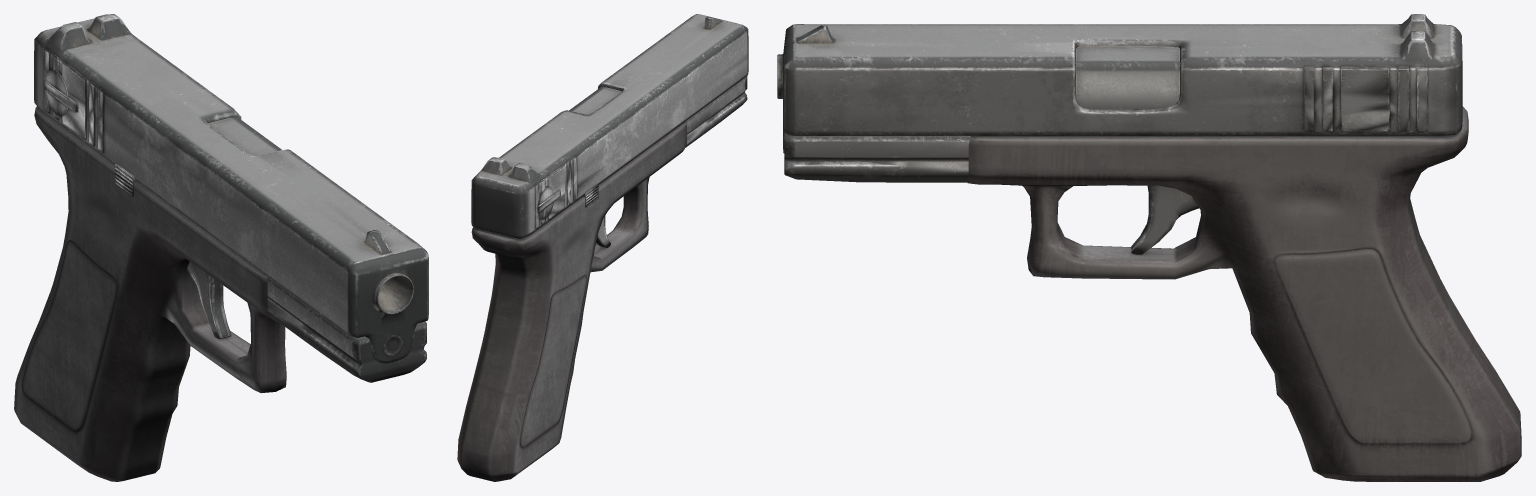
Rendered from Gun.dae.
3 views of the same model, side by side, from view 1: azimuth 30°, elevation 25°; view 2: azimuth 150°, elevation 25°; view 3: azimuth 270°, elevation 25° (orthographic). The views are drawn at different scales.
Visible parts, largest first — view 1: Gun:Mesh; view 2: Gun:Mesh; view 3: Gun:Mesh.
Boxes of the visible parts, x1,y1,x2,y2 form: Gun:Mesh: [14, 14, 428, 481]; Gun:Mesh: [457, 14, 748, 481]; Gun:Mesh: [777, 14, 1521, 481].
Size of the model in its own units: 0.0283 by 0.2068 by 0.1355.
1 material, 1 textured.
